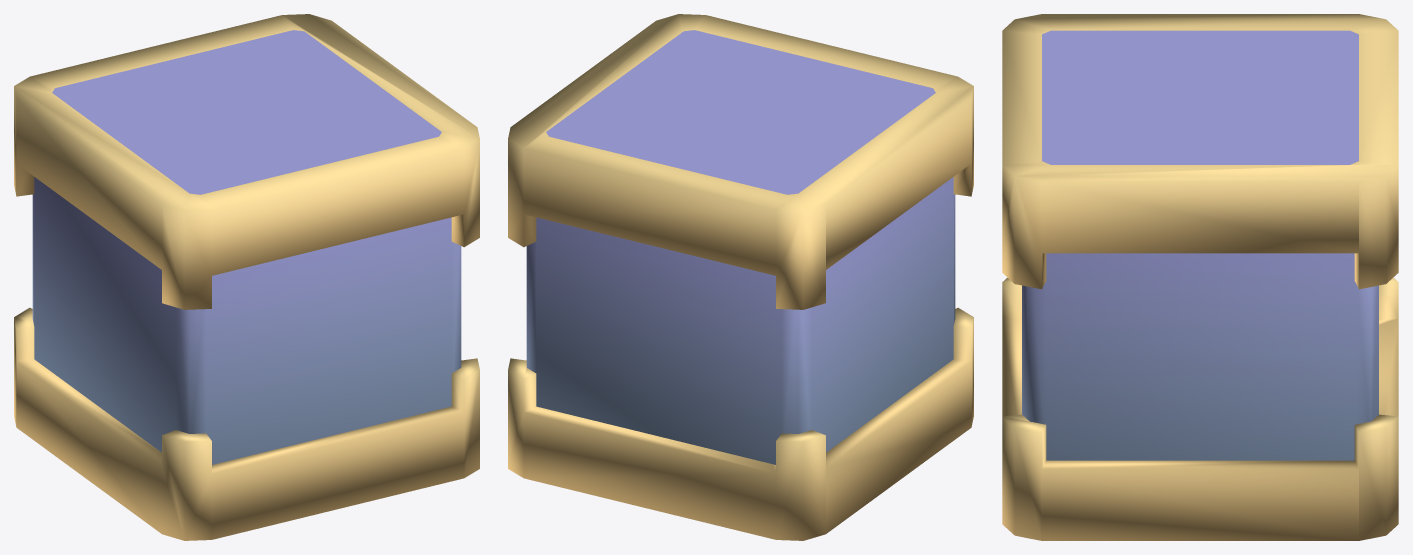
The model's file is movingBlock.gltf.
The picture shows the model from 3 angles, left to right: view 1: azimuth 30°, elevation 25°; view 2: azimuth 150°, elevation 25°; view 3: azimuth 270°, elevation 25°; orthographic projection. The views are drawn at different scales.
Visible parts, largest first — view 1: block-moving-blue; view 2: block-moving-blue; view 3: block-moving-blue.
Part boxes in pixels (left/top/right/bottom): block-moving-blue: left=14, top=14, right=479, bottom=540; block-moving-blue: left=508, top=14, right=973, bottom=540; block-moving-blue: left=1002, top=14, right=1398, bottom=540.
Bounding box in the file's own units: 1 × 1 × 1.
